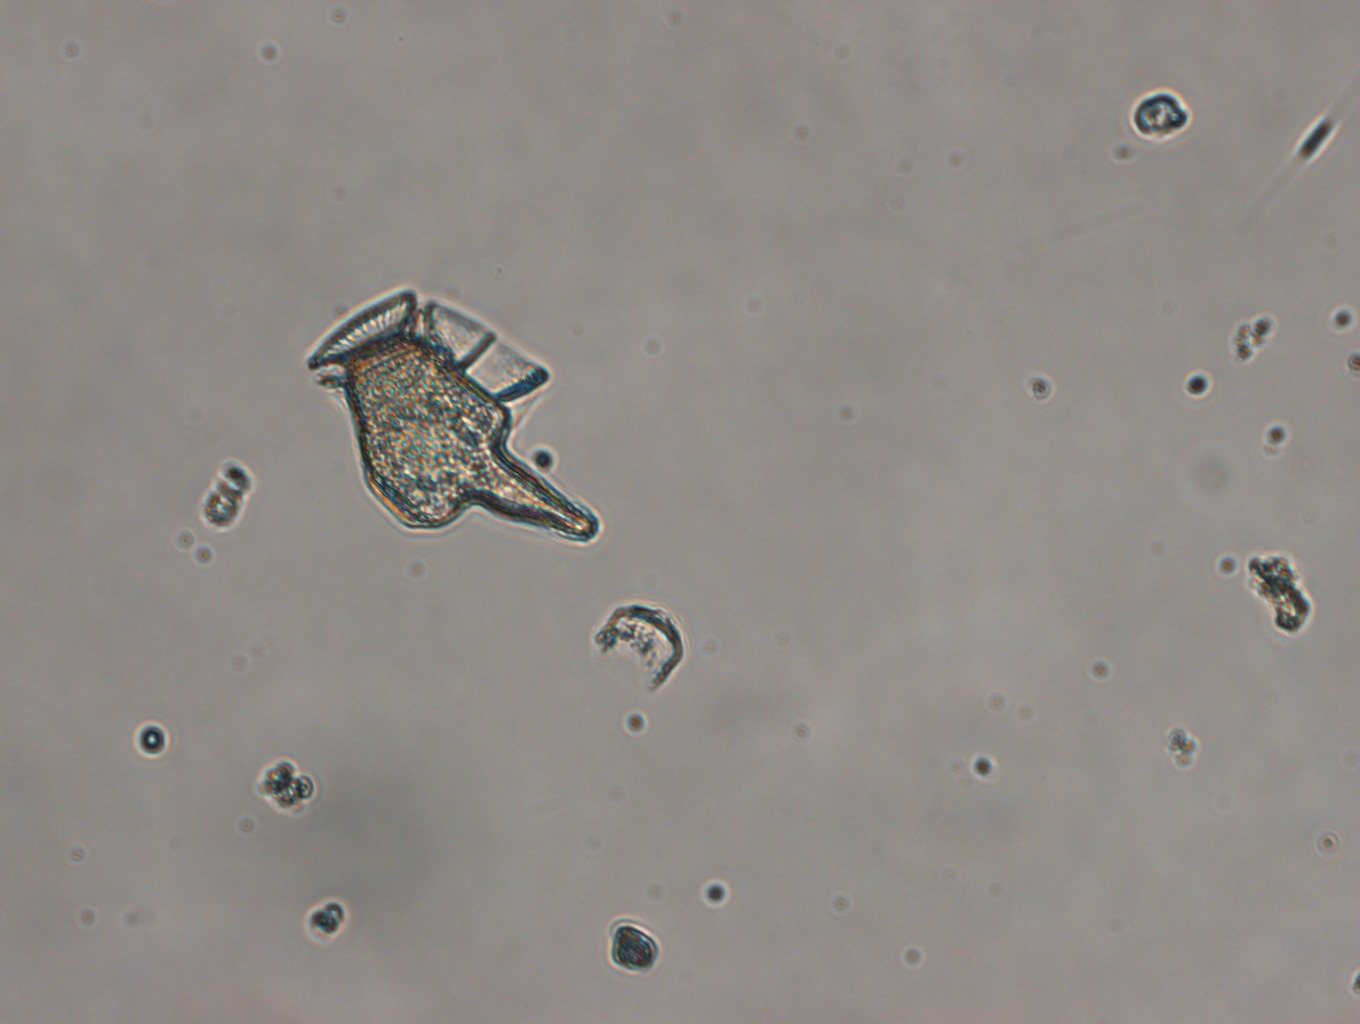dinophysis caudata: (306, 285, 606, 550)
